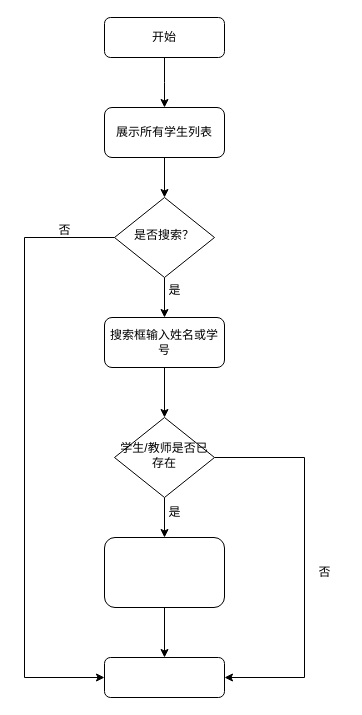
Some shapes in this 362 by 715 pixel diagram are drawn without their labels. The centre of each missing label's shape, as x and y in pixels:
"显示教师、学生信息列表" belongs at pixel 164 572.
"结束" belongs at pixel 164 677.
